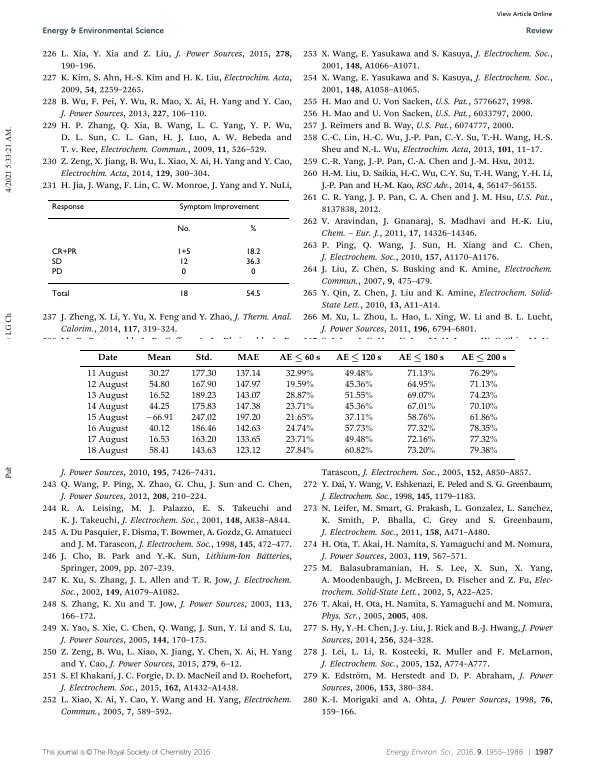borderless: (79, 348, 515, 459), (46, 198, 290, 307)
cell: (178, 203, 259, 212), (335, 353, 382, 363), (397, 353, 444, 363), (460, 353, 507, 363), (86, 369, 128, 380), (86, 380, 128, 391), (86, 391, 128, 402), (86, 402, 128, 413), (86, 413, 128, 424), (86, 424, 128, 435), (86, 435, 128, 446), (86, 446, 128, 457), (278, 353, 321, 363), (343, 369, 373, 380), (406, 369, 436, 380), (468, 369, 498, 380), (343, 380, 373, 391), (406, 380, 436, 391), (468, 380, 498, 391), (343, 391, 373, 402), (406, 391, 436, 402), (468, 391, 498, 402), (343, 402, 373, 413), (406, 402, 436, 413), (468, 402, 498, 413), (144, 413, 174, 424), (343, 413, 373, 424), (406, 413, 436, 424), (468, 413, 498, 424), (343, 424, 373, 435), (406, 424, 436, 435), (468, 424, 498, 435), (343, 435, 373, 446), (406, 435, 436, 446), (468, 435, 498, 446), (343, 446, 373, 457), (406, 446, 436, 457), (468, 446, 498, 457), (285, 369, 314, 380), (285, 380, 314, 391), (285, 391, 314, 402), (285, 402, 314, 413), (285, 413, 314, 424), (285, 424, 314, 435), (285, 435, 314, 446), (285, 446, 314, 457), (50, 203, 84, 212), (190, 369, 217, 380), (234, 369, 261, 380), (190, 380, 217, 391), (234, 380, 261, 391), (190, 391, 217, 402), (234, 391, 261, 402), (190, 402, 217, 413), (234, 402, 261, 413), (190, 413, 217, 424), (234, 413, 261, 424), (190, 424, 217, 435), (234, 424, 261, 435), (190, 435, 217, 446), (234, 435, 261, 446), (190, 446, 217, 457), (234, 446, 261, 457), (50, 247, 77, 257), (148, 369, 170, 380), (148, 380, 170, 391), (148, 391, 170, 402), (148, 402, 170, 413), (148, 424, 170, 435), (148, 435, 170, 446), (148, 446, 170, 457), (146, 353, 172, 361), (236, 353, 259, 361), (50, 290, 70, 299), (96, 353, 118, 361), (245, 247, 261, 257), (245, 257, 261, 267), (176, 247, 191, 257), (245, 290, 261, 299), (194, 353, 212, 361), (176, 225, 191, 234), (50, 257, 62, 267), (50, 268, 63, 277), (178, 257, 188, 267), (178, 290, 188, 299), (249, 225, 257, 234), (180, 268, 186, 277), (250, 268, 256, 277)
